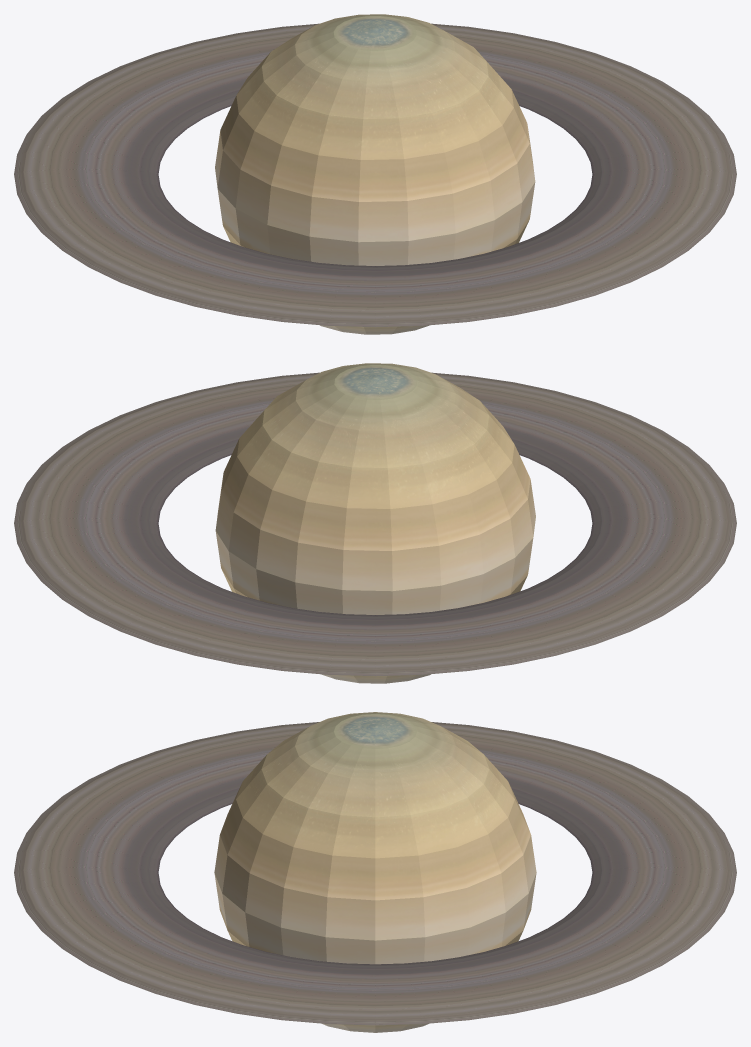
The model's file is Saturno.glb.
The picture shows the model from 3 angles, top to bottom: view 1: azimuth 30°, elevation 25°; view 2: azimuth 150°, elevation 25°; view 3: azimuth 270°, elevation 25°; orthographic projection.
Parts seen in each view (by area): view 1: Saturno; view 2: Saturno; view 3: Saturno.
Part boxes in pixels (x1,y1,x2,y2): Saturno: (14,14,736,334); Saturno: (14,363,736,683); Saturno: (14,712,736,1032).
Bounding box in the file's own units: 16.9 × 7.53 × 16.9.
2 materials, 2 textured.
